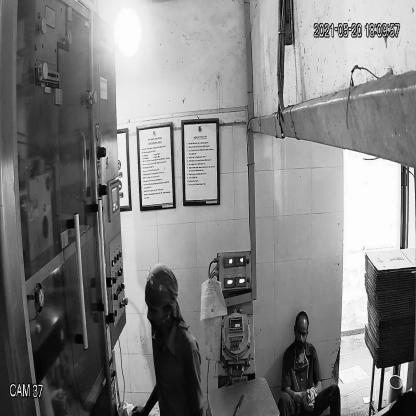no_goggles: (142, 296, 170, 324), (292, 325, 309, 342)
